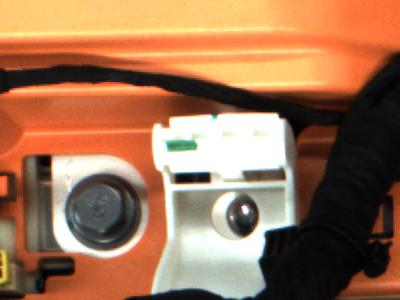nut_b: (62, 166, 151, 251)
